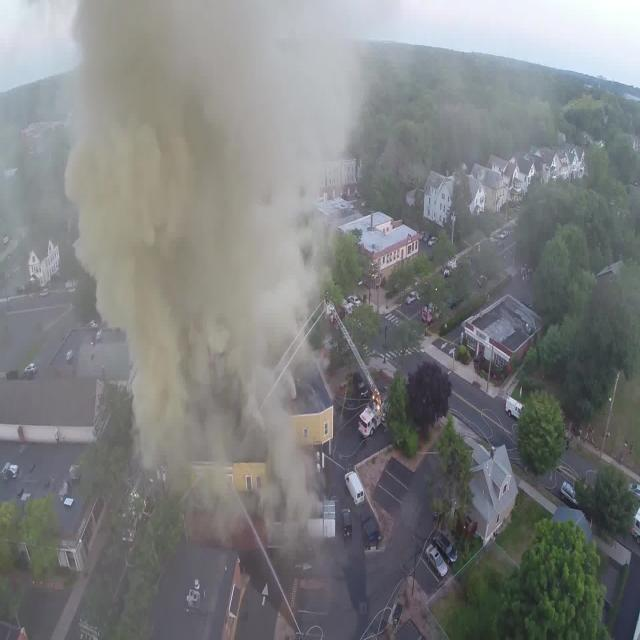Smoke: (64, 0, 334, 568)
